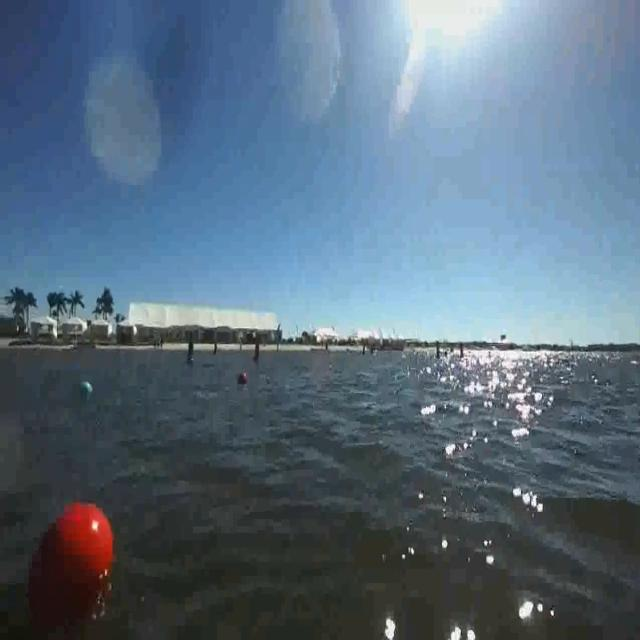green-buoy: (80, 382, 90, 395)
green-column-buoy: (185, 337, 195, 364)
red-buoy: (13, 492, 127, 640), (237, 371, 248, 384)
red-column-buoy: (253, 342, 261, 362)
